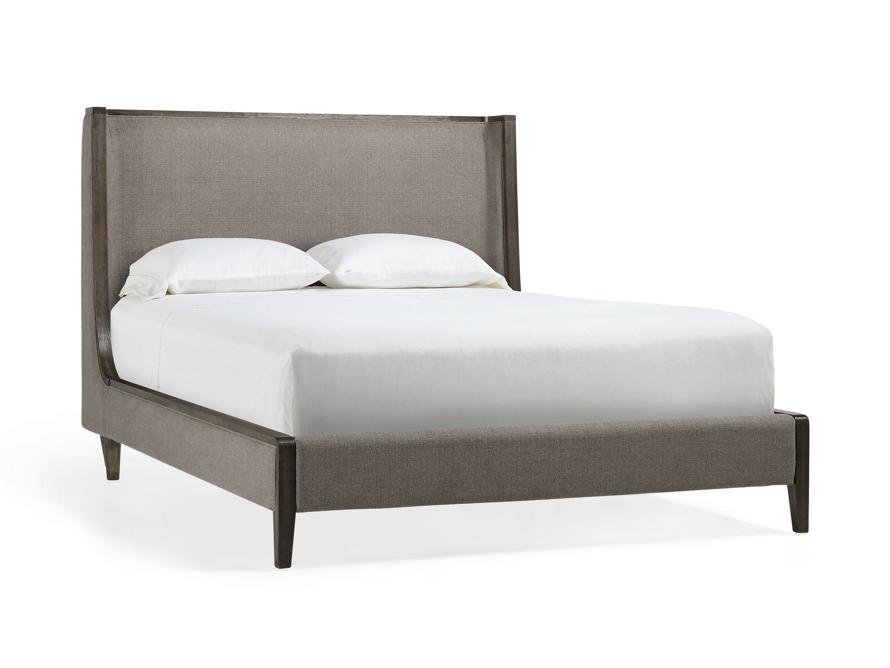bed: (49, 98, 842, 587)
